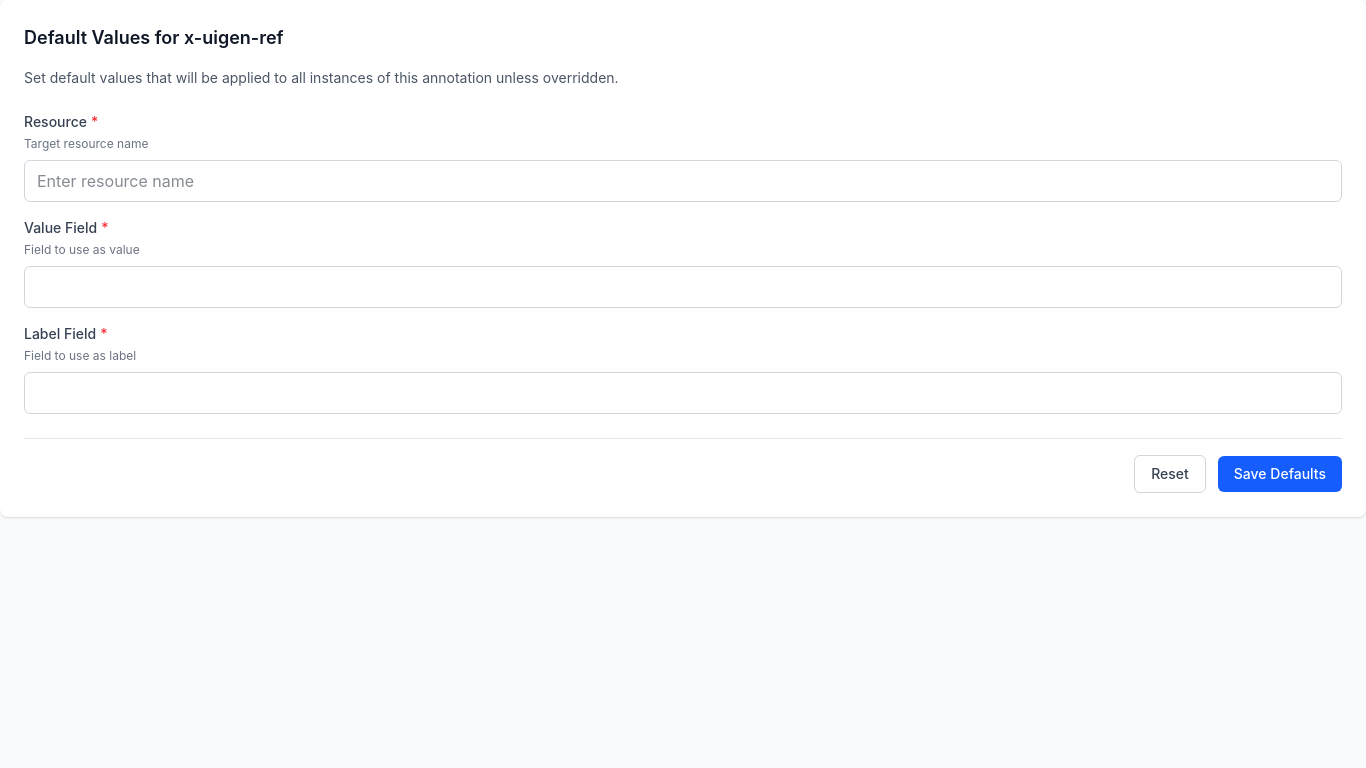
Scenario: AnnotationForm › Validation › should validate required fields on submit
Click the button "Save Defaults" at (1280, 474), box x1=1218 y1=456 x2=1342 y2=492
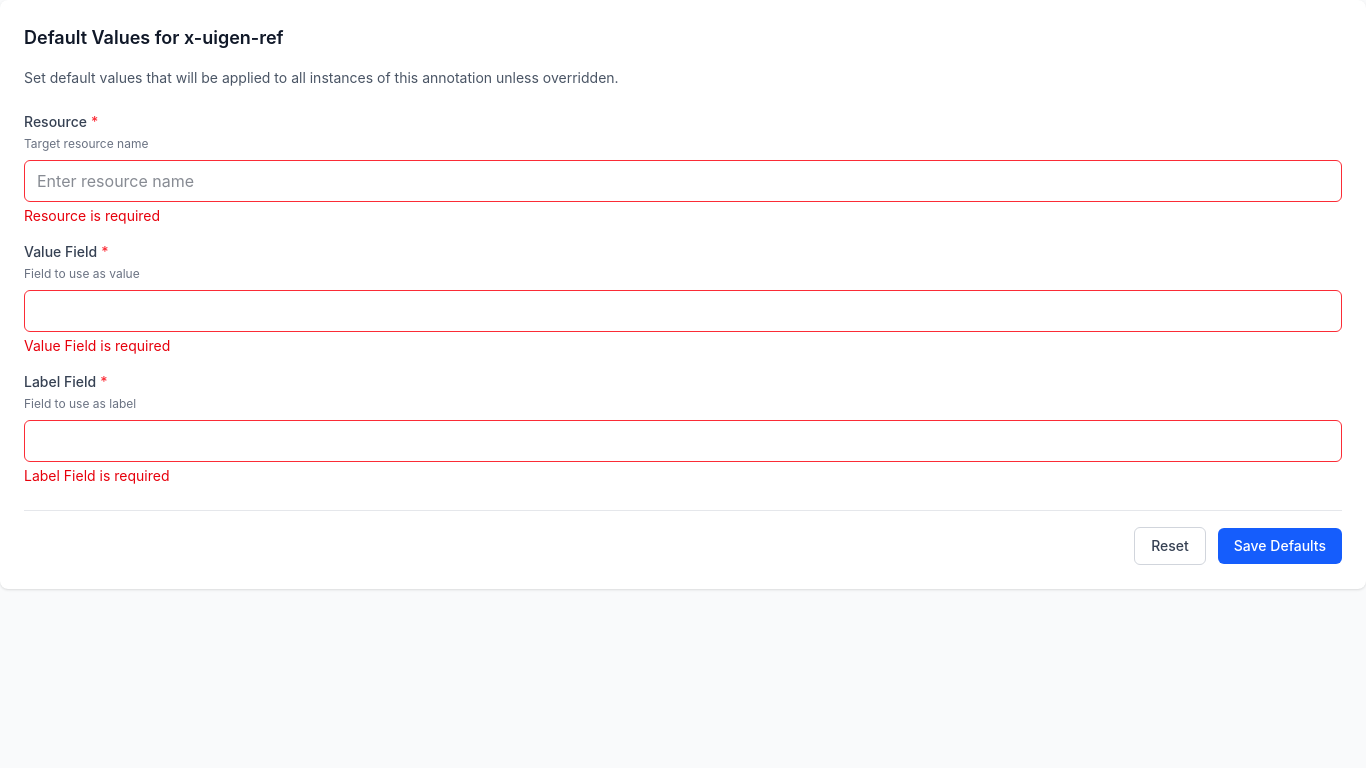
Expected: the text "Resource is required" is shown, x1=24 y1=207 x2=160 y2=224
Expected: the text "Value Field is required" is shown, x1=24 y1=337 x2=170 y2=354
Expected: the text "Label Field is required" is shown, x1=24 y1=467 x2=170 y2=484
